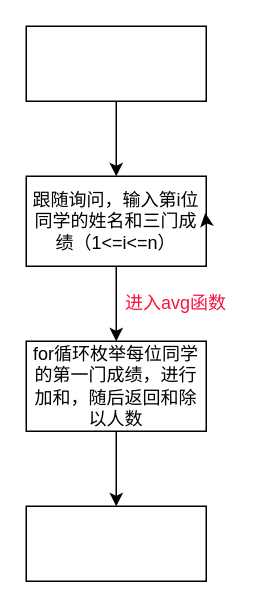
Some shapes in this 263 by 608 pixel diagram are drawn without their labels. The shapes that lost their labels are listed below. From the top down, each one's centre as x and y in pixels, then its label:
pixel 115 63: 输入n,表示有n个同学 （n<=10000）
pixel 115 543: 输出求得的平均值
